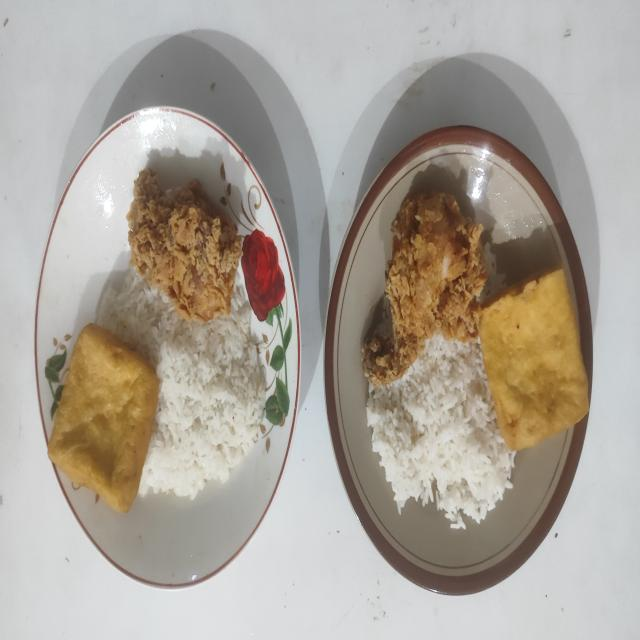nasi_putih: (97, 270, 266, 500), (366, 334, 515, 528)
tahu_goreng: (48, 323, 160, 512), (479, 270, 589, 450)
